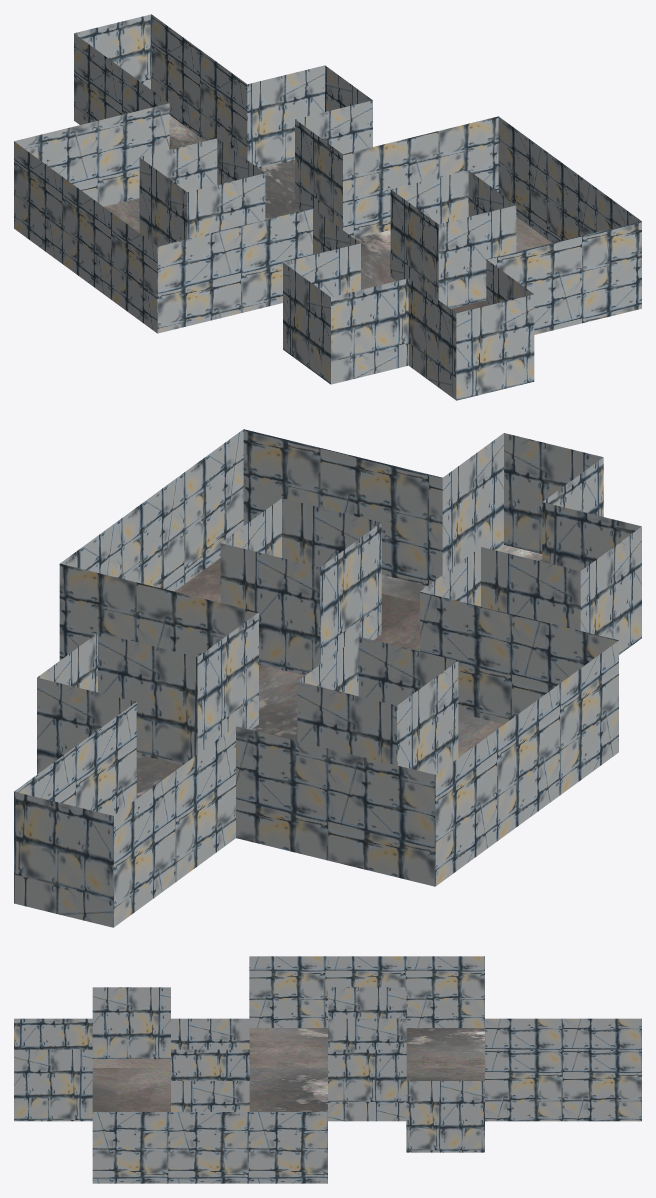
The model's file is LevelTimeIsMoney.fbx.
3 views of the same model, one above another, from view 1: azimuth 30°, elevation 25°; view 2: azimuth 150°, elevation 25°; view 3: azimuth 270°, elevation 25° (orthographic). The views are drawn at different scales.
Visible parts, largest first — view 1: pPlane1; view 2: pPlane1; view 3: pPlane1.
Part boxes in pixels (x1=…): pPlane1: x1=14, y1=14, x2=641, y2=400; pPlane1: x1=14, y1=429, x2=641, y2=927; pPlane1: x1=14, y1=956, x2=641, y2=1183.
Bounding box in the file's own units: 13.97 × 3 × 23.81.
Materials: 2 (2 with a texture image).
